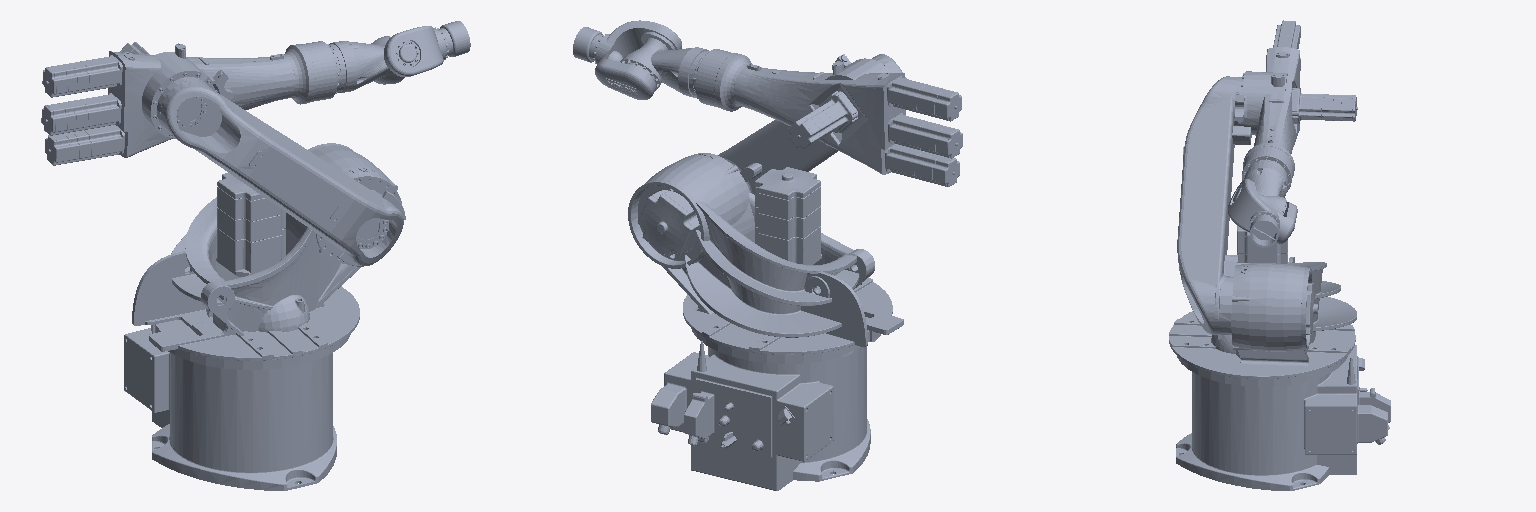
robot.urdf — kuka_urdf:
<?xml version="1.0" encoding="utf-8" ?>
<!-- This URDF was automatically created by SolidWorks to URDF Exporter! Originally created by [author] ([email redacted]) 
     Commit Version: 1.6.0-4-g7f85cfe  Build Version: 1.6.7995.38578
     For more information, please see http://wiki.ros.org/sw_urdf_exporter -->
<robot name="kuka_urdf">
    <link name="world"/>
    <joint name="world_joint" type="fixed">
        <origin xyz="0 0 0" rpy="0 0 0"/>  <!-- Place the robot wherever you want -->
        <parent link="world"/>
        <child link="base_link"/>  <!-- replace this name with your robot's base link -->
    </joint>
    <link name="base_link">
        <inertial>
            <origin xyz="0.00169071554591047 0.0421254082322567 0.194181706745783" rpy="0 0 0" />
            <mass value="72.8456791935468" />
            <inertia ixx="2.30199373615997" ixy="-0.0360498315195982" ixz="0.000324874783814514" iyy="1.86913360615281" iyz="0.0782647235264402" izz="2.34289554929916" />
        </inertial>
        <visual>
            <origin xyz="0 0 0" rpy="0 0 0" />
            <geometry>
                <mesh filename="package://kuka_urdf/meshes/base_link.STL" />
            </geometry>
            <material name="">
                <color rgba="0.666666666666667 0.698039215686274 0.768627450980392 1" />
            </material>
        </visual>
        <collision>
            <origin xyz="0 0 0" rpy="0 0 0" />
            <geometry>
                <mesh filename="package://kuka_urdf/meshes/base_link.STL" />
            </geometry>
        </collision>
    </link>
    <link name="link1">
        <inertial>
            <origin xyz="0.11850464020614 0.220299547158799 -0.0380338208389561" rpy="0 0 0" />
            <mass value="24.868772466875" />
            <inertia ixx="0.424656660940318" ixy="-0.152718990661531" ixz="0.0057839301853943" iyy="0.694343256191447" iyz="0.0275014415615462" izz="0.691966793599722" />
        </inertial>
        <visual>
            <origin xyz="0 0 0" rpy="0 0 0" />
            <geometry>
                <mesh filename="package://kuka_urdf/meshes/link1.STL" />
            </geometry>
            <material name="">
                <color rgba="0.666666666666667 0.698039215686274 0.768627450980392 1" />
            </material>
        </visual>
        <collision>
            <origin xyz="0 0 0" rpy="0 0 0" />
            <geometry>
                <mesh filename="package://kuka_urdf/meshes/link1.STL" />
            </geometry>
        </collision>
    </link>
    <joint name="joint1" type="revolute">
        <origin xyz="0 0 0.357" rpy="1.5707963267949 0 -0.0844304651404737" />
        <parent link="base_link" />
        <child link="link1" />
        <axis xyz="0 1 0" />
        <limit lower="-3.14" upper="3.14" effort="100" velocity="1" />
    </joint>
    <link name="link2">
        <inertial>
            <origin xyz="0.000189381328191018 0.303438179366152 0.155091041663287" rpy="0 0 0" />
            <mass value="13.9287878174792" />
            <inertia ixx="0.593276811357925" ixy="-0.000669711071031098" ixz="0.000213408868960804" iyy="0.0591609855193814" iyz="-0.0259775733733786" izz="0.593104027757824" />
        </inertial>
        <visual>
            <origin xyz="0 0 0" rpy="0 0 0" />
            <geometry>
                <mesh filename="package://kuka_urdf/meshes/link2.STL" />
            </geometry>
            <material name="">
                <color rgba="0.666666666666667 0.698039215686274 0.768627450980392 1" />
            </material>
        </visual>
        <collision>
            <origin xyz="0 0 0" rpy="0 0 0" />
            <geometry>
                <mesh filename="package://kuka_urdf/meshes/link2.STL" />
            </geometry>
        </collision>
    </link>
    <joint name="joint2" type="revolute">
        <origin xyz="0.285000000000002 0.278999999999999 0" rpy="0 0 0.860540949726414" />
        <parent link="link1" />
        <child link="link2" />
        <axis xyz="0 0 1" />
        <limit lower="-3.14" upper="3.14" effort="100" velocity="1" />
    </joint>
    <link name="link3">
        <inertial>
            <origin xyz="-0.04700413682585 -0.0176944777360042 0.0276625988132613" rpy="0 0 0" />
            <mass value="16.4189284998869" />
            <inertia ixx="0.0681231627534655" ixy="-0.00829241688235473" ixz="0.0216145830359155" iyy="0.456794458430376" iyz="0.00443789755446783" izz="0.466037810686351" />
        </inertial>
        <visual>
            <origin xyz="0 0 0" rpy="0 0 0" />
            <geometry>
                <mesh filename="package://kuka_urdf/meshes/link3.STL" />
            </geometry>
            <material name="">
                <color rgba="0.666666666666667 0.698039215686274 0.768627450980392 1" />
            </material>
        </visual>
        <collision>
            <origin xyz="0 0 0" rpy="0 0 0" />
            <geometry>
                <mesh filename="package://kuka_urdf/meshes/link3.STL" />
            </geometry>
        </collision>
    </link>
    <joint name="joint3" type="revolute">
        <origin xyz="0 0.680000000000002 0" rpy="-3.14159265358979 0 2.25375212776307" />
        <parent link="link2" />
        <child link="link3" />
        <axis xyz="0 0 1" />
        <limit lower="-3.14" upper="3.14" effort="100" velocity="1" />
    </joint>
    <link name="link4">
        <inertial>
            <origin xyz="0.0067405769845435 0.119400386730787 0.000146014653053195" rpy="0 0 0" />
            <mass value="2.38078194379471" />
            <inertia ixx="0.0138352592752633" ixy="-0.0012724264079337" ixz="-7.82821068847847E-06" iyy="0.00431375628504729" iyz="1.88244486105921E-06" izz="0.0140397202358096" />
        </inertial>
        <visual>
            <origin xyz="0 0 0" rpy="0 0 0" />
            <geometry>
                <mesh filename="package://kuka_urdf/meshes/link4.STL" />
            </geometry>
            <material name="">
                <color rgba="0.666666666666667 0.698039215686274 0.768627450980392 1" />
            </material>
        </visual>
        <collision>
            <origin xyz="0 0 0" rpy="0 0 0" />
            <geometry>
                <mesh filename="package://kuka_urdf/meshes/link4.STL" />
            </geometry>
        </collision>
    </link>
    <joint name="joint4" type="revolute">
        <origin xyz="-0.463043248331428 -0.0225000000000002 0.0330000000000008" rpy="3.14159265358979 -1.03989491708518 -1.57079632679491" />
        <parent link="link3" />
        <child link="link4" />
        <axis xyz="0 1 0" />
        <limit lower="-3.14" upper="3.14" effort="100" velocity="1" />
    </joint>
    <link name="link5">
        <inertial>
            <origin xyz="-0.0158164557924105 9.19753188277639E-07 0.0563361689596945" rpy="0 0 0" />
            <mass value="1.80204110195789" />
            <inertia ixx="0.00560825722244345" ixy="-6.28023344812325E-07" ixz="0.000237113370095094" iyy="0.0114817936089823" iyz="-6.22321567802891E-07" izz="0.00875151562088488" />
        </inertial>
        <visual>
            <origin xyz="0 0 0" rpy="0 0 0" />
            <geometry>
                <mesh filename="package://kuka_urdf/meshes/link5.STL" />
            </geometry>
            <material name="">
                <color rgba="0.666666666666667 0.698039215686274 0.768627450980392 1" />
            </material>
        </visual>
        <collision>
            <origin xyz="0 0 0" rpy="0 0 0" />
            <geometry>
                <mesh filename="package://kuka_urdf/meshes/link5.STL" />
            </geometry>
        </collision>
    </link>
    <joint name="joint5" type="revolute">
        <origin xyz="0 0.203456751668462 0" rpy="1.69866961467948 0 -3.14159265358972" />
        <parent link="link4" />
        <child link="link5" />
        <axis xyz="1 0 0" />
        <limit lower="-3.14" upper="3.14" effort="100" velocity="1" />
    </joint>
    <link name="link6">
        <inertial>
            <origin xyz="1.56889810032368E-08 0.0607892928273234 1.35196158712603E-08" rpy="0 0 0" />
            <mass value="0.21569144856326" />
            <inertia ixx="8.74922726987973E-05" ixy="-2.61522195322773E-13" ixz="-6.33886408899267E-10" iyy="0.000129565791188478" iyz="-1.35094136343338E-13" izz="8.74928287712893E-05" />
        </inertial>
        <visual>
            <origin xyz="0 0 0" rpy="0 0 0" />
            <geometry>
                <mesh filename="package://kuka_urdf/meshes/link6.STL" />
            </geometry>
            <material name="">
                <color rgba="1 1 1 1" />
            </material>
        </visual>
        <collision>
            <origin xyz="0 0 0" rpy="0 0 0" />
            <geometry>
                <mesh filename="package://kuka_urdf/meshes/link6.STL" />
            </geometry>
        </collision>
    </link>
    <joint name="joint6" type="revolute">
        <origin xyz="-0.0160000000004577 0 0.185308798192681" rpy="1.57079632679489 0 2.12309994244728" />
        <parent link="link5" />
        <child link="link6" />
        <axis xyz="0 1 0" />
        <limit lower="-3.14" upper="3.14" effort="100" velocity="1" />
    </joint>
    <transmission name="trans_joint1">
        <type>transmission_interface/SimpleTransmission</type>
        <joint name="joint1">
            <hardwareInterface>hardware_interface/PositionJointInterface</hardwareInterface>
        </joint>
        <actuator name="joint1_motor">
            <hardwareInterface>hardware_interface/PositionJointInterface</hardwareInterface>
            <mechanicalReduction>1</mechanicalReduction>
        </actuator>
    </transmission>
    <transmission name="trans_joint2">
        <type>transmission_interface/SimpleTransmission</type>
        <joint name="joint2">
            <hardwareInterface>hardware_interface/PositionJointInterface</hardwareInterface>
        </joint>
        <actuator name="joint2_motor">
            <hardwareInterface>hardware_interface/PositionJointInterface</hardwareInterface>
            <mechanicalReduction>1</mechanicalReduction>
        </actuator>
    </transmission>
    <transmission name="trans_joint3">
        <type>transmission_interface/SimpleTransmission</type>
        <joint name="joint3">
            <hardwareInterface>hardware_interface/PositionJointInterface</hardwareInterface>
        </joint>
        <actuator name="joint3_motor">
            <hardwareInterface>hardware_interface/PositionJointInterface</hardwareInterface>
            <mechanicalReduction>1</mechanicalReduction>
        </actuator>
    </transmission>
    <transmission name="trans_joint4">
        <type>transmission_interface/SimpleTransmission</type>
        <joint name="joint4">
            <hardwareInterface>hardware_interface/PositionJointInterface</hardwareInterface>
        </joint>
        <actuator name="joint4_motor">
            <hardwareInterface>hardware_interface/PositionJointInterface</hardwareInterface>
            <mechanicalReduction>1</mechanicalReduction>
        </actuator>
    </transmission>
    <transmission name="trans_joint5">
        <type>transmission_interface/SimpleTransmission</type>
        <joint name="joint5">
            <hardwareInterface>hardware_interface/PositionJointInterface</hardwareInterface>
        </joint>
        <actuator name="joint5_motor">
            <hardwareInterface>hardware_interface/PositionJointInterface</hardwareInterface>
            <mechanicalReduction>1</mechanicalReduction>
        </actuator>
    </transmission>
    <transmission name="trans_joint6">
        <type>transmission_interface/SimpleTransmission</type>
        <joint name="joint6">
            <hardwareInterface>hardware_interface/PositionJointInterface</hardwareInterface>
        </joint>
        <actuator name="joint6_motor">
            <hardwareInterface>hardware_interface/PositionJointInterface</hardwareInterface>
            <mechanicalReduction>1</mechanicalReduction>
        </actuator>
    </transmission>
    <gazebo>
        <plugin name="gazebo_ros_control" filename="libgazebo_ros_control.so">
            <robotNamespace>/</robotNamespace>
        </plugin>
    </gazebo>
</robot>

--- Facts derived from the render (not from the file) ---
3 views of the same robot in one strip: view 1: azimuth 30°, elevation 25°; view 2: azimuth 150°, elevation 25°; view 3: azimuth 270°, elevation 25° (orthographic).
Model kuka_urdf with 8 links and 7 joints (6 revolute, 1 fixed), rooted at world, posed every joint at zero.
Links seen in each view (by area): view 1: link1, base_link, link3, link2, link5, link4; view 2: link1, base_link, link3, link5, link2, link4; view 3: base_link, link1, link2, link3, link5, link4.
Boxes of the visible links, x1=… form: link1: x1=132, y1=143, x2=401, y2=369; base_link: x1=124, y1=320, x2=336, y2=490; link3: x1=41, y1=41, x2=340, y2=165; link2: x1=160, y1=80, x2=405, y2=266; link5: x1=371, y1=21, x2=470, y2=84; link4: x1=329, y1=36, x2=404, y2=92; link1: x1=628, y1=153, x2=903, y2=363; base_link: x1=651, y1=317, x2=870, y2=490; link3: x1=693, y1=49, x2=962, y2=186; link5: x1=573, y1=20, x2=681, y2=99; link2: x1=718, y1=54, x2=906, y2=194; link4: x1=620, y1=38, x2=708, y2=97; base_link: x1=1176, y1=345, x2=1390, y2=490; link1: x1=1169, y1=226, x2=1356, y2=386; link2: x1=1177, y1=76, x2=1251, y2=339; link3: x1=1234, y1=20, x2=1357, y2=191; link5: x1=1228, y1=179, x2=1297, y2=247; link4: x1=1244, y1=162, x2=1287, y2=215.
Size in the robot's own frame: 1.22 by 0.6776 by 1.21 metres.
Meshes: 7 distinct files referenced, 6 mesh visuals loaded (6 binary STL); not drawn: 1 (reference not matched to a file when rendering).
